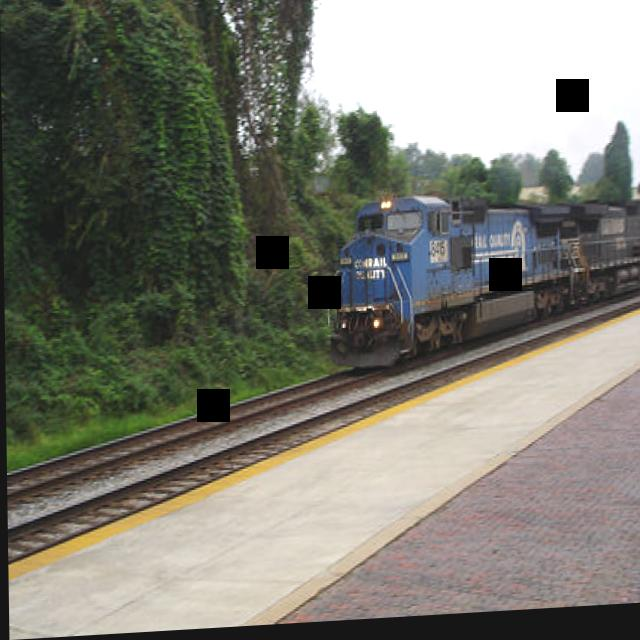locomotive: (318, 178, 576, 379), (568, 196, 640, 321)
